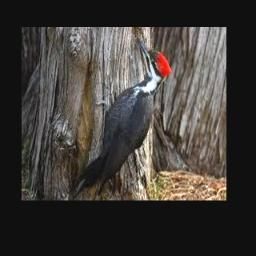Woodpecker: (73, 35, 173, 198)
